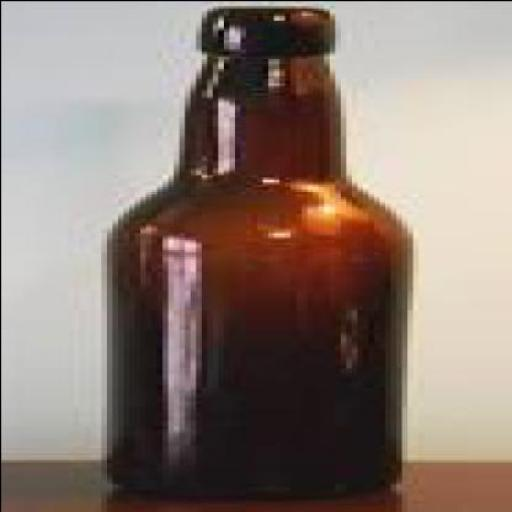glass: (106, 5, 417, 495)
